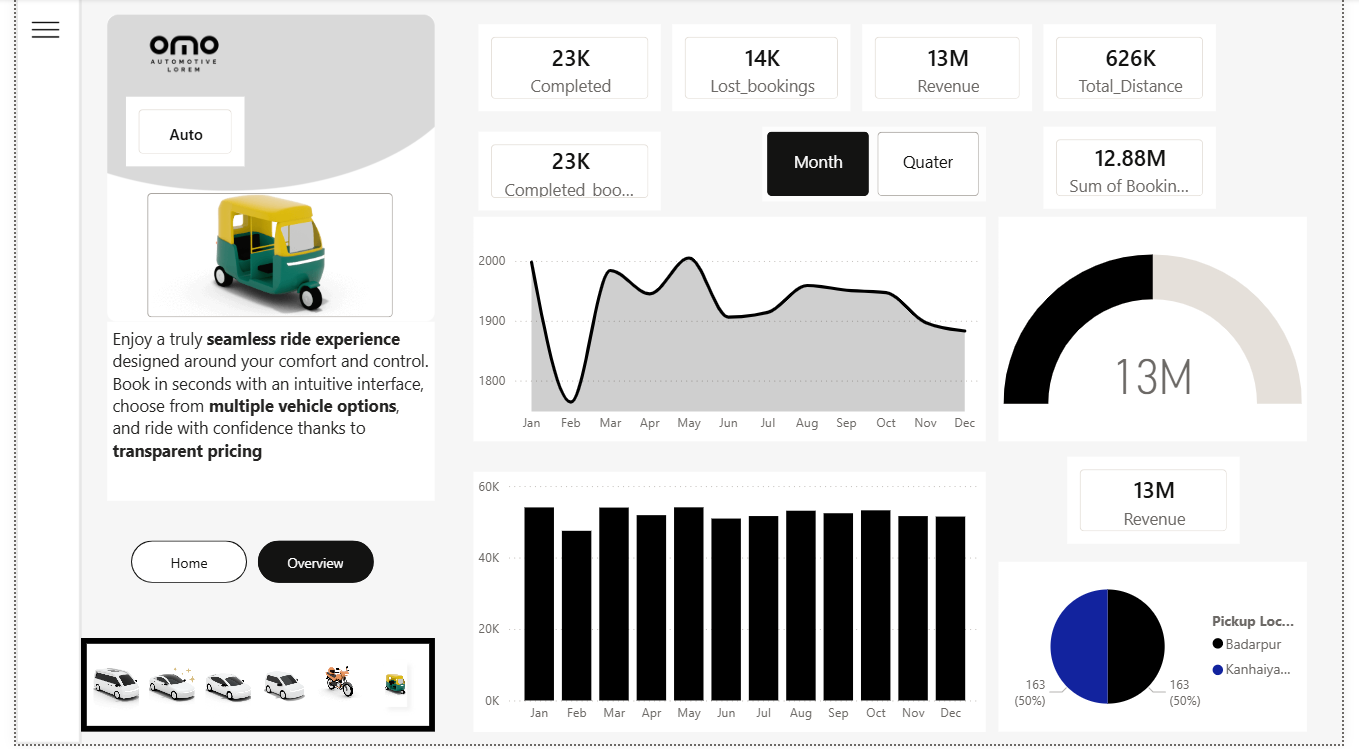

Layout of this report page (visuals, bound fields, positions):
{"tool":"powerbi","page":{"name":"Overview","canvas":[1280,720],"ordinal":1},"visuals":[{"type":"shape","box":[0,0,62.9,720],"z":0},{"type":"image","box":[6,14.5,45.8,33.8],"z":1000},{"type":"image","box":[88.1,14.5,316.1,299.2],"z":2000},{"type":"cardVisual","fields":{"Data":["_Measures.Lost_bookings"]},"box":[628.6,20,182.9,94.3],"z":3000},{"type":"cardVisual","fields":{"Data":["_Measures.Booking_value"]},"box":[811.9,20.5,174.9,94.1],"z":4000},{"type":"cardVisual","fields":{"Data":["_Measures.Total_Distance"]},"box":[986.9,20.5,176.1,94.1],"z":5000},{"type":"advancedSlicerVisual","fields":{"Values":["IMG.Vehicle Type"]},"box":[62.5,617.5,341.2,90],"z":6000},{"type":"cardVisual","fields":{"Data":["Min(IMG.Vehicle Type)"]},"box":[101.3,90.5,126.7,77.2],"z":7000},{"type":"advancedSlicerVisual","fields":{"Values":["IMG.Img"]},"box":[121.9,183.4,247.3,130.3],"z":8000},{"type":"lineChart","fields":{"Category":["Calender.Month"],"Y":["_Measures.Completed_booking"]},"box":[441.6,211.1,494.6,217.2],"z":9000},{"type":"clusteredColumnChart","fields":{"Category":["Calender.Month"],"Y":["_Measures.Total_Distance"]},"box":[441.6,457.2,494.6,250.9],"z":10000},{"type":"advancedSlicerVisual","fields":{"Values":["Date Axis.Date Axis"]},"box":[720.2,124.3,216,72.4],"z":11000},{"type":"cardVisual","fields":{"Data":["_Measures.Completed_booking"]},"box":[441.6,124.3,187,86.9],"z":12000},{"type":"cardVisual","fields":{"Data":["_Measures.Completed_booking"]},"box":[441.6,20.5,187,94.1],"z":13000},{"type":"textbox","box":[88.1,312.5,316.1,172.5],"z":14000},{"type":"pageNavigator","box":[111,523.6,234,41],"z":15000},{"type":"cardVisual","fields":{"Data":["_Measures.Booking_value"]},"box":[1009.8,437.9,176.1,94.1],"z":16000},{"type":"gauge","fields":{"Y":["_Measures.Booking_value"]},"box":[948.3,211.1,298,217.2],"z":17000},{"type":"pieChart","fields":{"Category":["Ubre.Pickup Location"],"Y":["_Measures.Completed_booking"],"Series":["Ubre.Incomplete Rides Reason"]},"box":[948.3,544.1,298,164.1],"z":18000},{"type":"cardVisual","fields":{"Data":["Sum(Ubre.Booking Value)"]},"box":[986.9,119.4,176.1,89.3],"z":19000},{"type":"image","box":[51.9,0,220.8,108.6],"z":20000}]}

Visuals, with their boxes in screenshot pixels (x1, y1, x2, y2), scaled from the page's 1280x720 canvas onto the 1359x749 screenshot:
shape: <region>0, 0, 67, 748</region>
image: <region>6, 15, 55, 50</region>
image: <region>94, 15, 429, 326</region>
cardVisual - _Measures.Lost_bookings: <region>667, 21, 862, 119</region>
cardVisual - _Measures.Booking_value: <region>862, 21, 1048, 119</region>
cardVisual - _Measures.Total_Distance: <region>1048, 21, 1235, 119</region>
advancedSlicerVisual - IMG.Vehicle Type: <region>66, 642, 429, 736</region>
cardVisual - Min(IMG.Vehicle Type): <region>108, 94, 242, 174</region>
advancedSlicerVisual - IMG.Img: <region>129, 191, 392, 326</region>
lineChart - Calender.Month x _Measures.Completed_booking: <region>469, 220, 994, 446</region>
clusteredColumnChart - Calender.Month x _Measures.Total_Distance: <region>469, 476, 994, 737</region>
advancedSlicerVisual - Date Axis.Date Axis: <region>765, 129, 994, 205</region>
cardVisual - _Measures.Completed_booking: <region>469, 129, 667, 220</region>
cardVisual - _Measures.Completed_booking: <region>469, 21, 667, 119</region>
textbox: <region>94, 325, 429, 505</region>
pageNavigator: <region>118, 545, 366, 587</region>
cardVisual - _Measures.Booking_value: <region>1072, 456, 1259, 553</region>
gauge - _Measures.Booking_value: <region>1007, 220, 1323, 446</region>
pieChart - Ubre.Pickup Location x _Measures.Completed_booking: <region>1007, 566, 1323, 737</region>
cardVisual - Sum(Ubre.Booking Value): <region>1048, 124, 1235, 217</region>
image: <region>55, 0, 290, 113</region>
